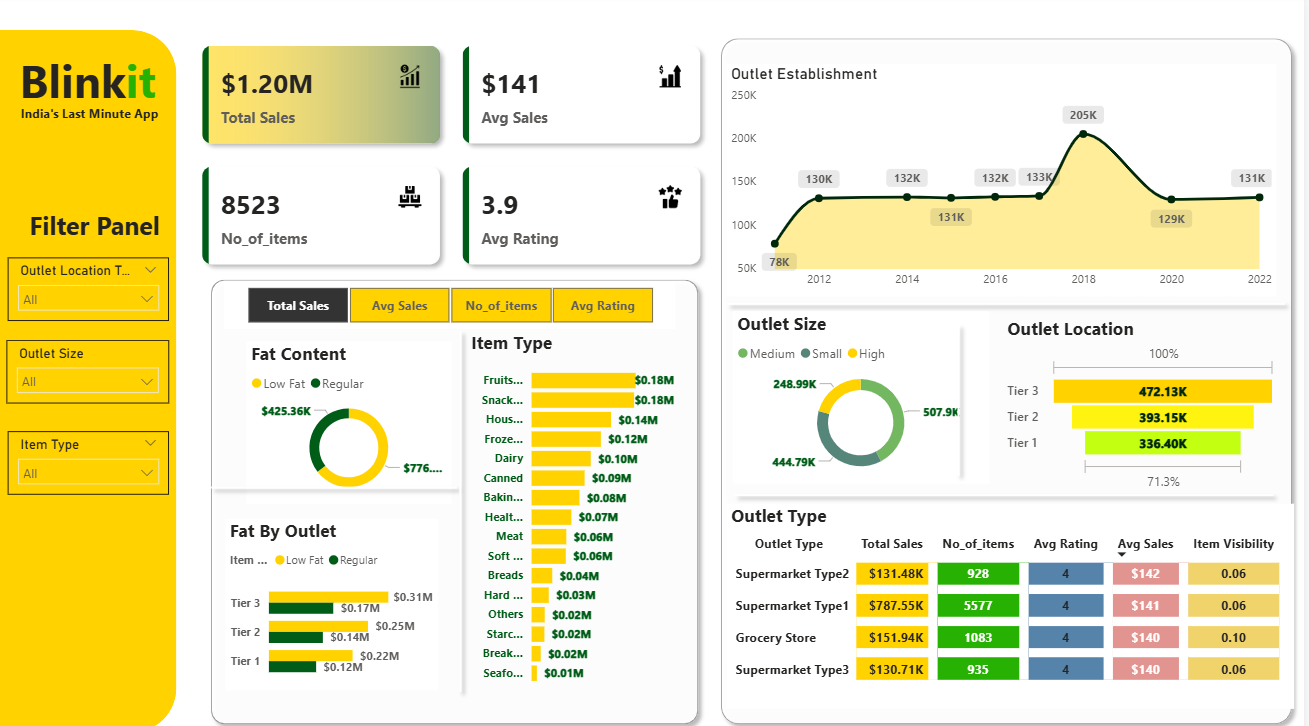

What the dashboard file says about the page in this screenshot:
{"tool":"powerbi","page":{"name":"Page 1","canvas":[1400,800],"ordinal":0},"visuals":[{"type":"shape","box":[0,37.5,190.3,753.4],"z":0},{"type":"textbox","box":[12.1,112.6,170.2,50.9],"z":1000},{"type":"cardVisual","fields":{"Data":["BlinkIT Grocery Data.Total Sales","BlinkIT Grocery Data.Avg Sales","BlinkIT Grocery Data.No_of_items","BlinkIT Grocery Data.Avg Rating"]},"box":[200.5,37.8,569.7,269.4],"z":2000},{"type":"shape","box":[218.5,296.2,540.2,494.6],"z":3000},{"type":"donutChart","title":"Fat Content","fields":{"Y":["BlinkIT Grocery Data.Avg Rating"],"Category":["BlinkIT Grocery Data.Item Fat Content"]},"box":[264.9,371.6,219.8,174.3],"z":4000},{"type":"slicer","fields":{"Values":["Metrics.Metrics"]},"box":[241.3,307,483.9,50.9],"z":5000},{"type":"clusteredBarChart","title":"Fat By Outlet","fields":{"Y":["BlinkIT Grocery Data.Avg Rating"],"Category":["BlinkIT Grocery Data.Outlet Location Type"],"Series":["BlinkIT Grocery Data.Item Fat Content"]},"box":[242.6,561.7,227.9,183.6],"z":6000},{"type":"shape","box":[218.5,510.7,281.5,34.9],"z":7000},{"type":"shape","box":[473.2,351.2,42.9,404.8],"z":8000},{"type":"barChart","title":"Item Type","fields":{"Y":["BlinkIT Grocery Data.Avg Rating"],"Category":["BlinkIT Grocery Data.Item Type"]},"box":[501.3,359.3,227.9,390.1],"z":9000},{"type":"shape","box":[765.4,37.5,630,753.4],"z":10000},{"type":"lineChart","title":"Outlet Establishment","fields":{"Category":["BlinkIT Grocery Data.Outlet Establishment Year"],"Y":["Sum(BlinkIT Grocery Data.Sales)"]},"box":[780.2,73.7,589.8,249.3],"z":11000},{"type":"shape","box":[772.1,305.6,615.8,50.9],"z":12000},{"type":"donutChart","title":"Outlet Size","fields":{"Y":["Sum(BlinkIT Grocery Data.Sales)"],"Category":["BlinkIT Grocery Data.Outlet Size"]},"box":[786.9,339.1,274.8,184.7],"z":13000},{"type":"shape","box":[1014.8,344.5,28.2,179.6],"z":14000},{"type":"funnel","title":"Outlet Location","fields":{"Y":["Sum(BlinkIT Grocery Data.Sales)"],"Category":["BlinkIT Grocery Data.Outlet Location Type"]},"box":[1076.4,344.5,298.9,191.7],"z":15000},{"type":"shape","box":[780.2,510.7,595.2,50.9],"z":16000},{"type":"pivotTable","title":"Outlet Type","fields":{"Rows":["BlinkIT Grocery Data.Outlet Type"],"Values":["BlinkIT Grocery Data.Total Sales","BlinkIT Grocery Data.No_of_items","BlinkIT Grocery Data.Avg Rating","BlinkIT Grocery Data.Avg Sales","Avg(BlinkIT Grocery Data.Item Visibility)"]},"box":[780.2,545.6,608.6,219.8],"z":17000},{"type":"slicer","fields":{"Values":["BlinkIT Grocery Data.Outlet Location Type"]},"box":[9.4,281.5,172.9,68.4],"z":18000},{"type":"slicer","fields":{"Values":["BlinkIT Grocery Data.Outlet Size"]},"box":[8,370,174.3,68.4],"z":19000},{"type":"slicer","fields":{"Values":["BlinkIT Grocery Data.Item Type"]},"box":[9.4,467.8,172.9,68.4],"z":20000},{"type":"textbox","box":[12.1,223.9,181,46.9],"z":21000},{"type":"textbox","box":[0,53.6,190.3,85.8],"z":22000}]}

Visuals, with their boxes on the page's 1400x800 design canvas (x1, y1, x2, y2). These are canvas units, not pixel positions in the 1309x726 screenshot, which may show the page scaled, cropped or inside an application window:
shape: locate(0, 38, 190, 791)
textbox: locate(12, 113, 182, 164)
cardVisual - BlinkIT Grocery Data.Total Sales x BlinkIT Grocery Data.Avg Sales: locate(200, 38, 770, 307)
shape: locate(218, 296, 759, 791)
"Fat Content" donutChart: locate(265, 372, 485, 546)
slicer - Metrics.Metrics: locate(241, 307, 725, 358)
"Fat By Outlet" clusteredBarChart: locate(243, 562, 470, 745)
shape: locate(218, 511, 500, 546)
shape: locate(473, 351, 516, 756)
"Item Type" barChart: locate(501, 359, 729, 749)
shape: locate(765, 38, 1395, 791)
"Outlet Establishment" lineChart: locate(780, 74, 1370, 323)
shape: locate(772, 306, 1388, 356)
"Outlet Size" donutChart: locate(787, 339, 1062, 524)
shape: locate(1015, 344, 1043, 524)
"Outlet Location" funnel: locate(1076, 344, 1375, 536)
shape: locate(780, 511, 1375, 562)
"Outlet Type" pivotTable: locate(780, 546, 1389, 765)
slicer - BlinkIT Grocery Data.Outlet Location Type: locate(9, 282, 182, 350)
slicer - BlinkIT Grocery Data.Outlet Size: locate(8, 370, 182, 438)
slicer - BlinkIT Grocery Data.Item Type: locate(9, 468, 182, 536)
textbox: locate(12, 224, 193, 271)
textbox: locate(0, 54, 190, 139)
